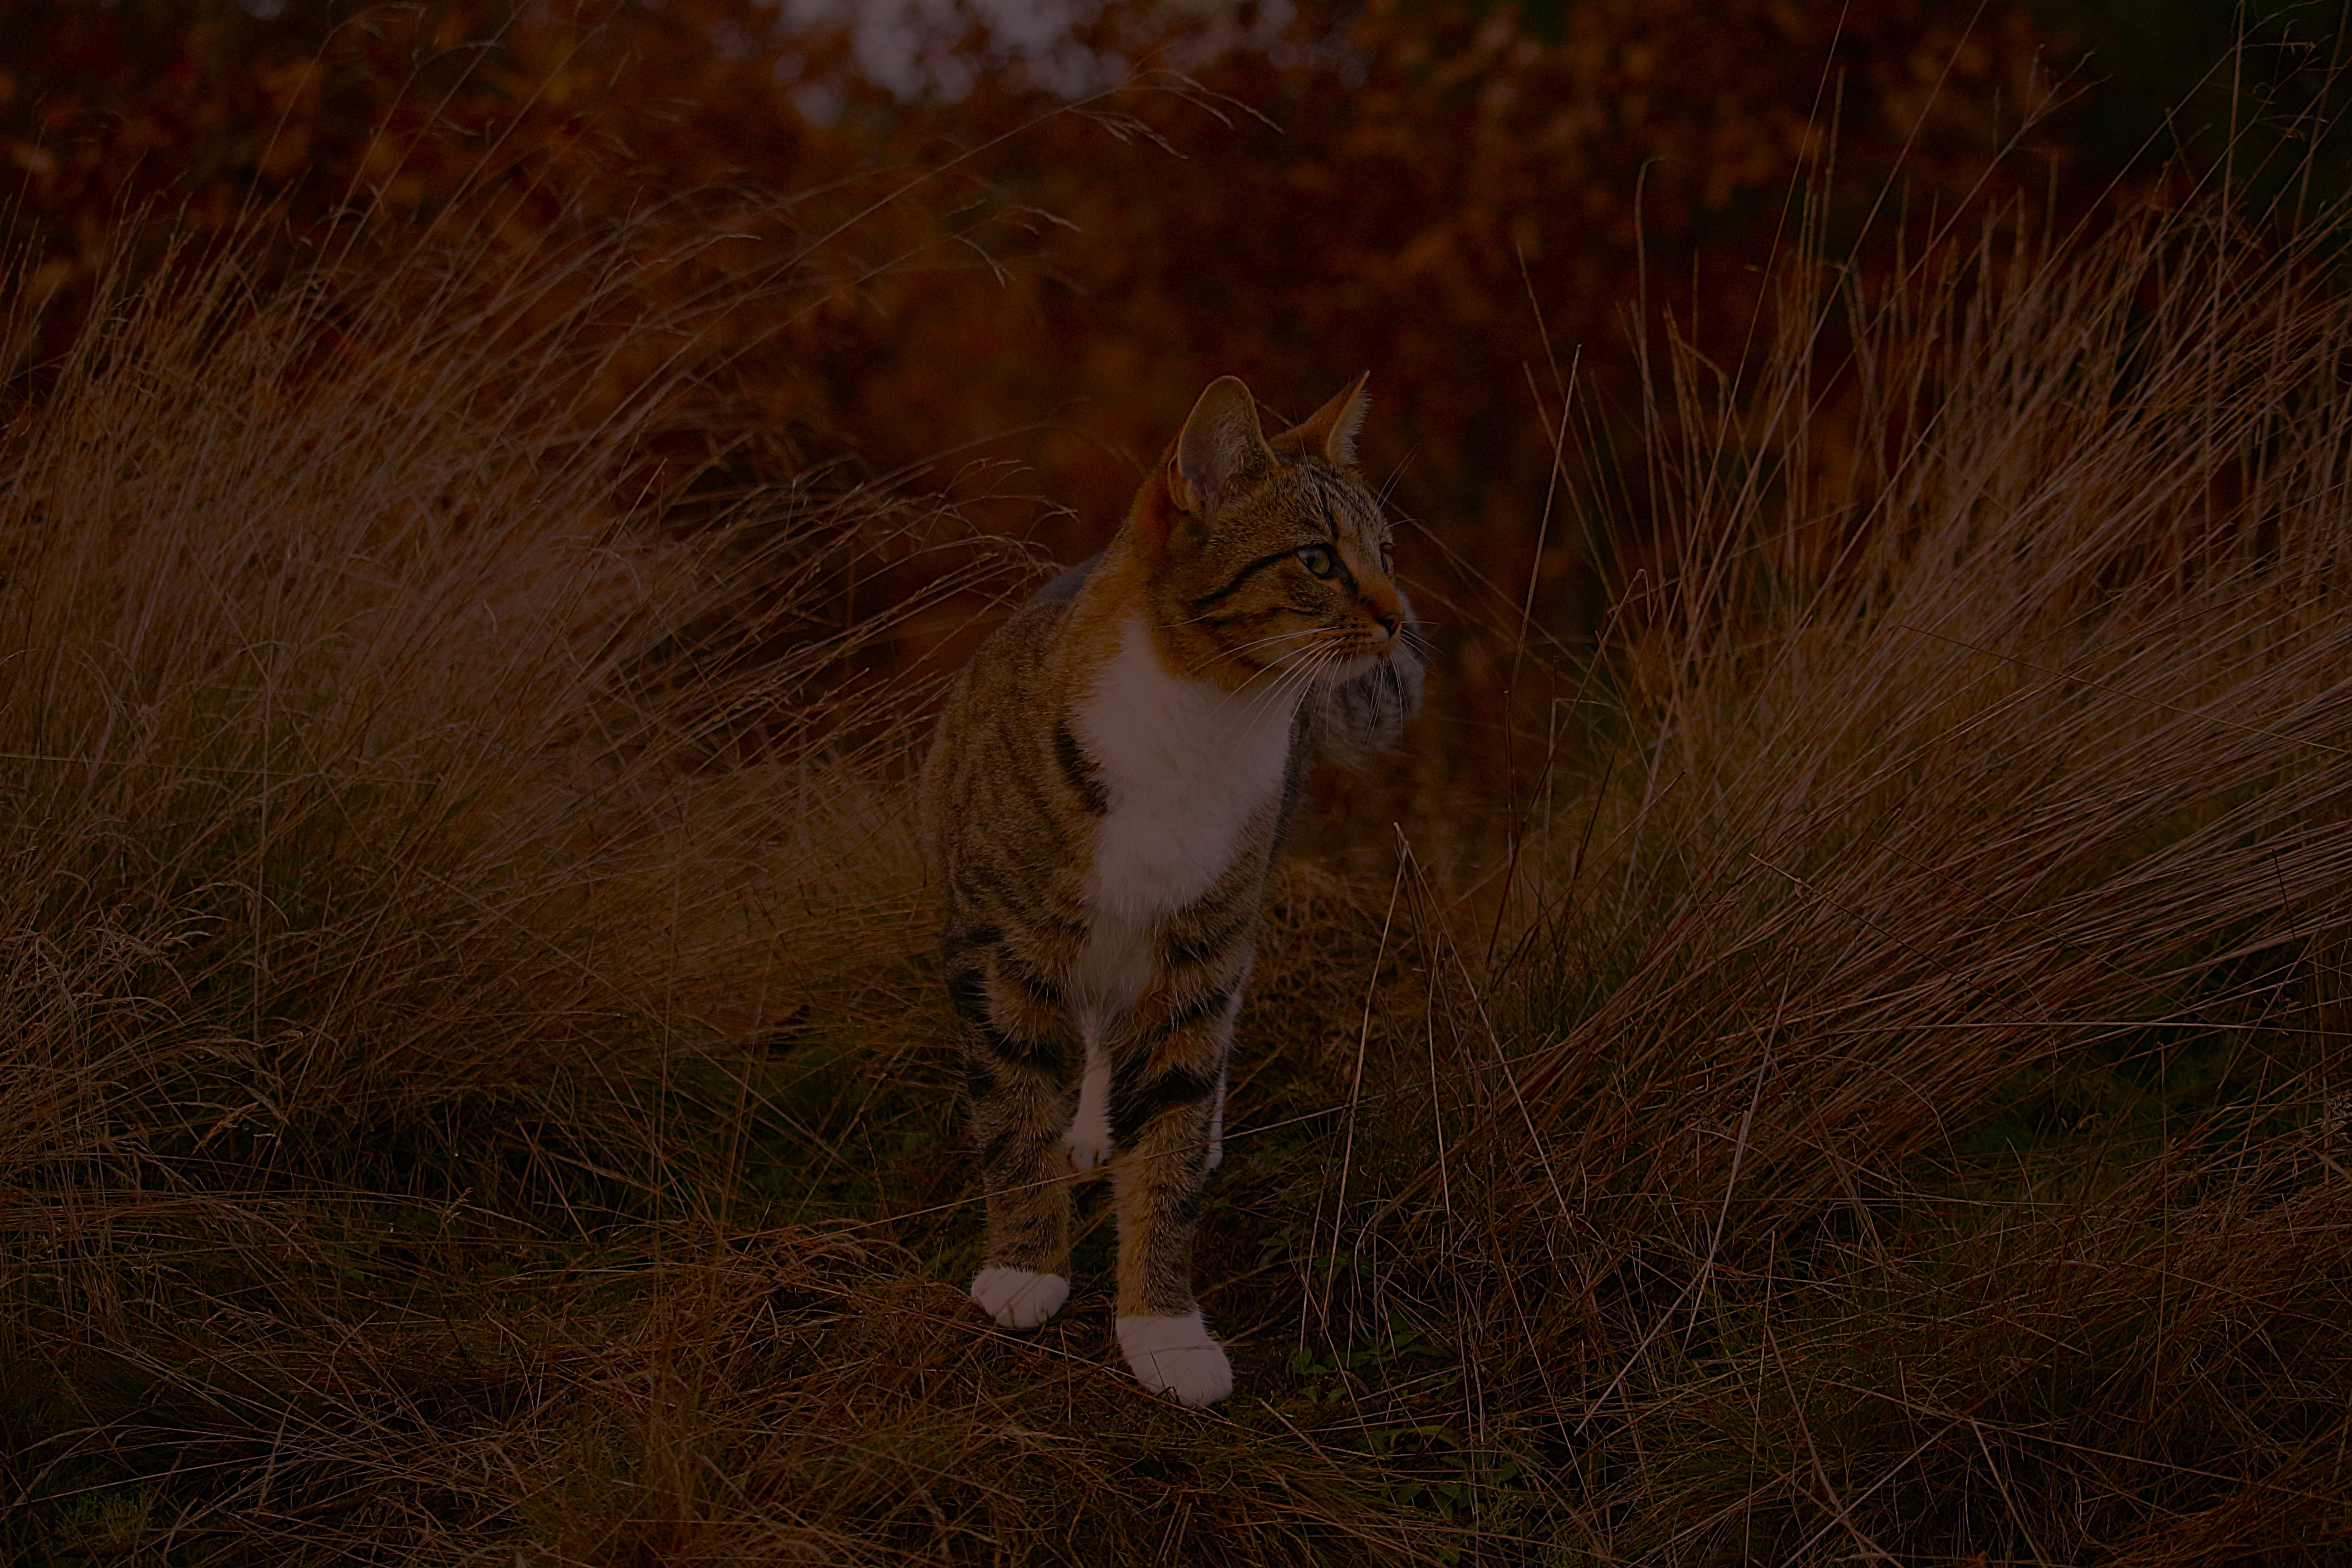cat: (905, 347, 1417, 1389)
